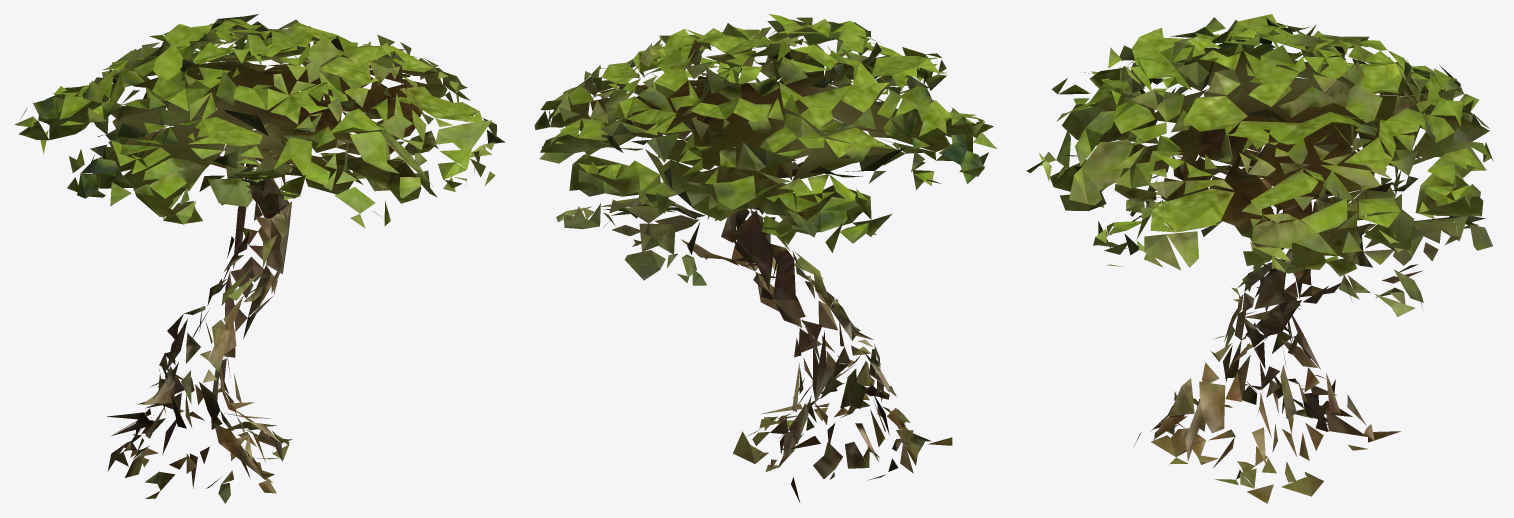
Rendered from tree_jungle_c.glb.
3 views of the same model, side by side, from view 1: azimuth 30°, elevation 25°; view 2: azimuth 150°, elevation 25°; view 3: azimuth 270°, elevation 25° (orthographic). The views are drawn at different scales.
Visible parts, largest first — view 1: geometry_0; view 2: geometry_0; view 3: geometry_0.
Boxes of the visible parts, x1,y1,x2,y2 form: geometry_0: [15, 14, 505, 503]; geometry_0: [534, 14, 996, 502]; geometry_0: [1026, 14, 1493, 503].
Bounding box in the file's own units: 1.96 × 1.88 × 1.81.
Materials: 1 (1 with a texture image).
